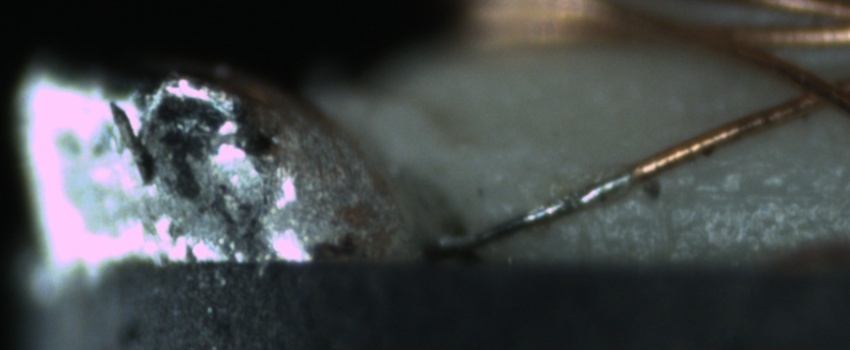CL: (777, 62, 847, 116)
DL: (663, 159, 850, 225)
TS: (434, 168, 636, 252)
TTCW: (433, 144, 685, 248)
